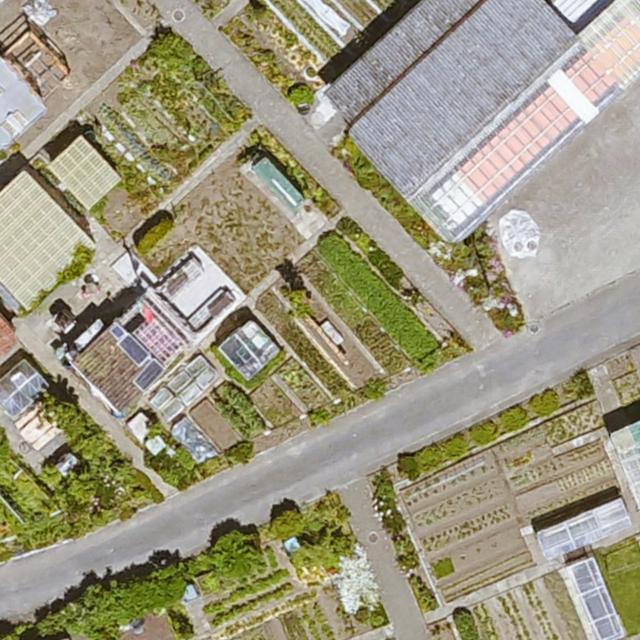tree: (25, 607, 103, 640), (210, 528, 260, 572), (37, 392, 85, 433), (77, 583, 122, 626), (116, 571, 160, 613), (143, 555, 178, 600), (270, 506, 302, 535)
